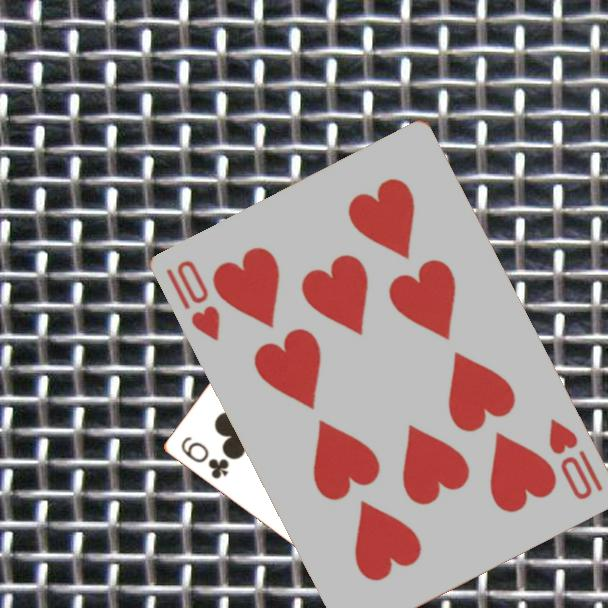c06: (177, 433, 232, 482)
h10: (162, 256, 224, 344), (546, 415, 607, 503)
